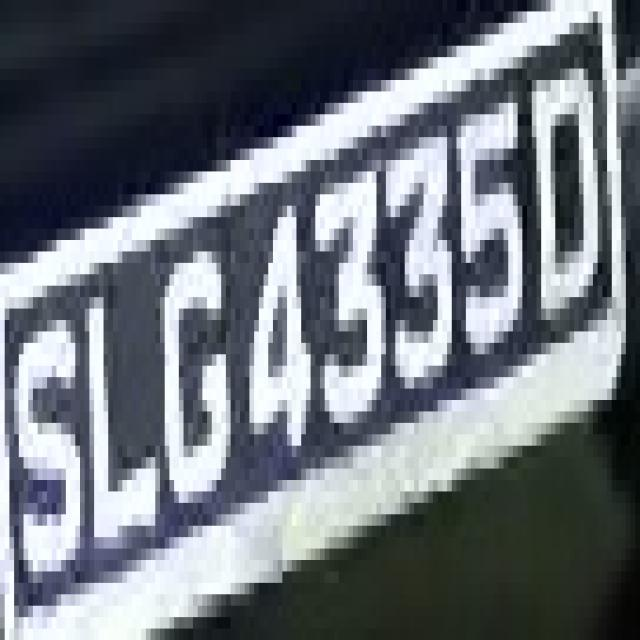3: (311, 137, 381, 446), (381, 103, 452, 400)
4: (231, 183, 315, 491)
5: (438, 103, 536, 366)
D: (522, 57, 593, 332)
G: (146, 217, 240, 537)
L: (76, 263, 156, 560)
S: (5, 274, 84, 606)
